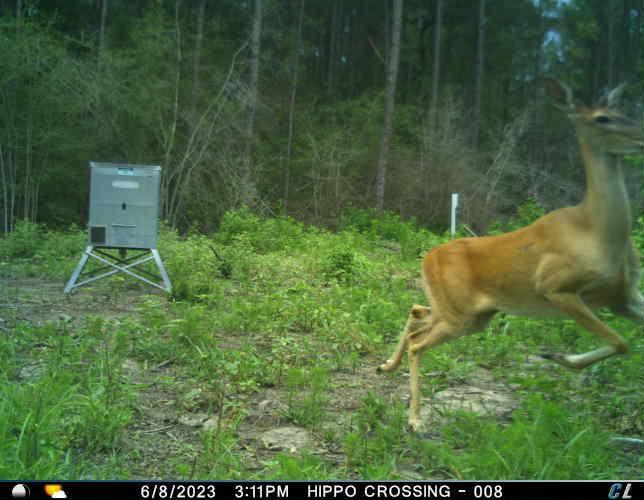Deer: (373, 73, 644, 434)
